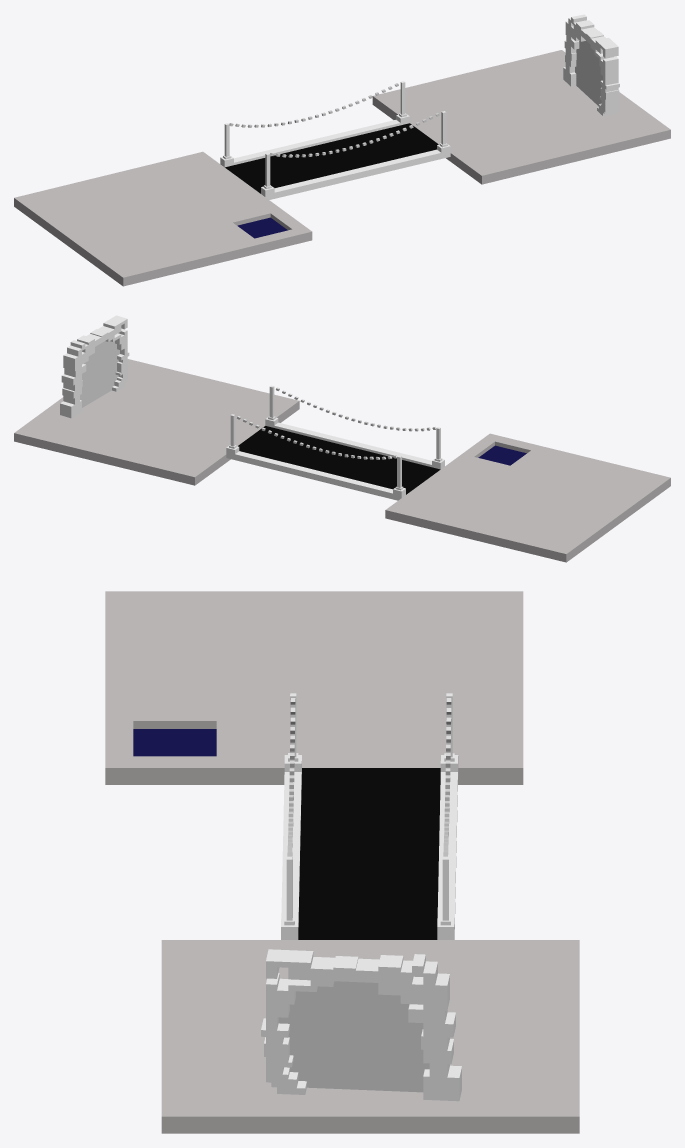
File: Dice Zone.fbx
The picture shows the model from 3 angles, top to bottom: view 1: azimuth 30°, elevation 25°; view 2: azimuth 150°, elevation 25°; view 3: azimuth 270°, elevation 25°; orthographic projection. The views are drawn at different scales.
Visible parts, largest first — view 1: Dice Boss Floor, Plank Bridge, Bridge, ArkV2, Veil, Fishing spot, Lanterns Right Side, Lanterns Left Side; view 2: Dice Boss Floor, Plank Bridge, Bridge, ArkV2, Veil, Fishing spot, Lanterns Right Side; view 3: Dice Boss Floor, Plank Bridge, ArkV2, Veil, Bridge, Fishing spot, Lanterns Left Side, Lanterns Right Side.
Part boxes in pixels (x1,y1,x2,y2): Dice Boss Floor: (14,50,670,286); Plank Bridge: (225,123,438,193); Bridge: (220,81,450,199); ArkV2: (563,14,619,115); Veil: (575,41,602,105); Fishing spot: (237,217,287,238); Lanterns Right Side: (270,113,439,157); Lanterns Left Side: (229,83,398,127); Dice Boss Floor: (14,359,670,562); Plank Bridge: (238,426,440,494); Bridge: (226,385,444,500); ArkV2: (60,315,129,418); Veil: (80,341,119,407); Fishing spot: (478,445,526,465); Lanterns Right Side: (276,387,436,431); Dice Boss Floor: (105,591,579,1133); Plank Bridge: (298,768,440,939); ArkV2: (261,949,461,1101); Veil: (278,981,429,1092); Bridge: (281,693,458,939); Fishing spot: (133,729,216,756); Lanterns Left Side: (443,698,451,856); Lanterns Right Side: (287,698,295,856).
Size of the model in its own units: 11080 by 1478 by 4227.
